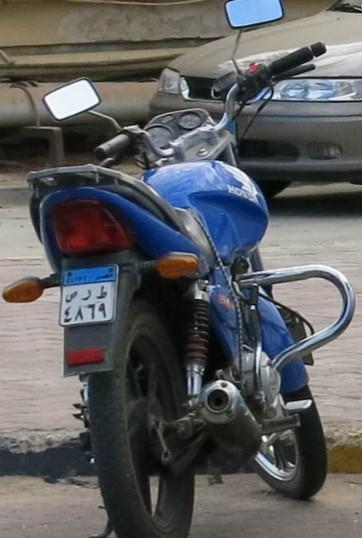License Plate: (55, 263, 117, 328)
